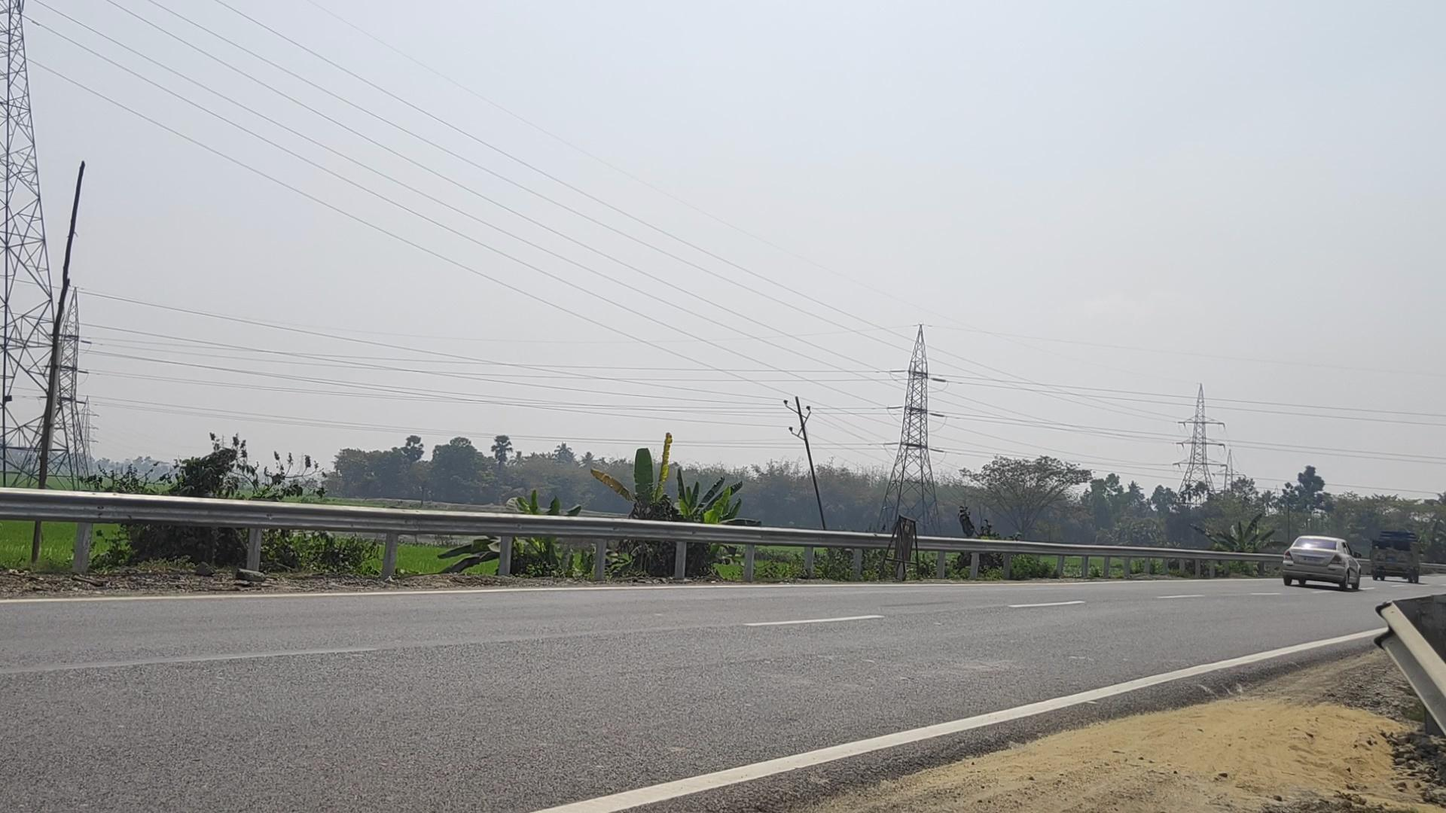car: (1282, 535, 1362, 592)
van: (1369, 531, 1424, 584)
